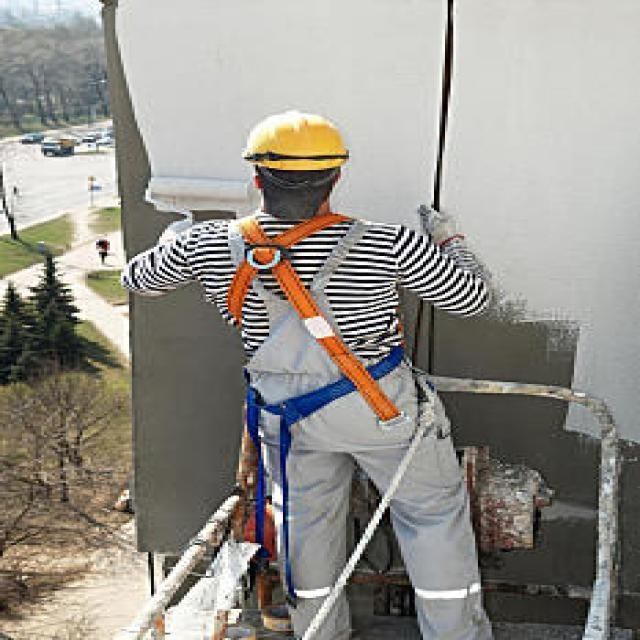Arnes_seguridad: (220, 205, 418, 424)
